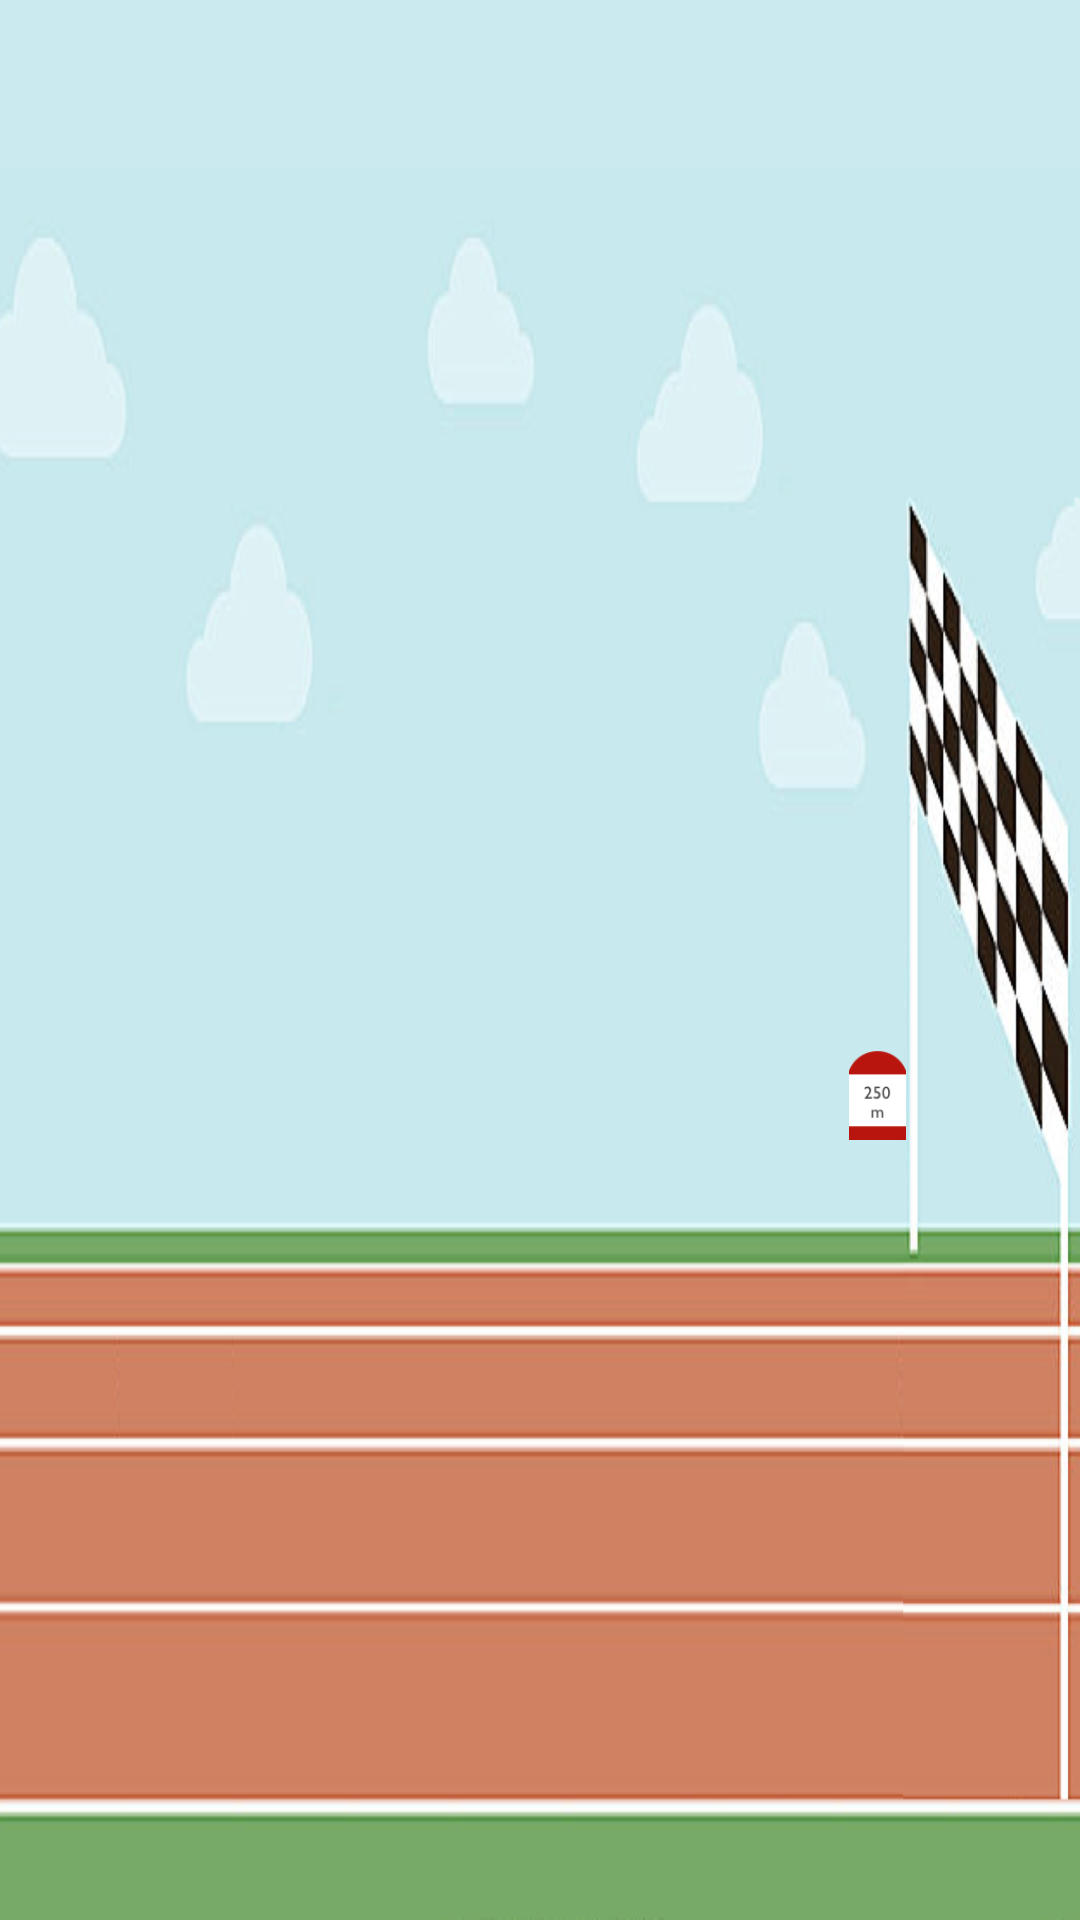

Screen size 1080×1920. Icon name, then its box in pixels as (x1, y1, x2, y2):
milestone: (849, 1051, 906, 1140)
